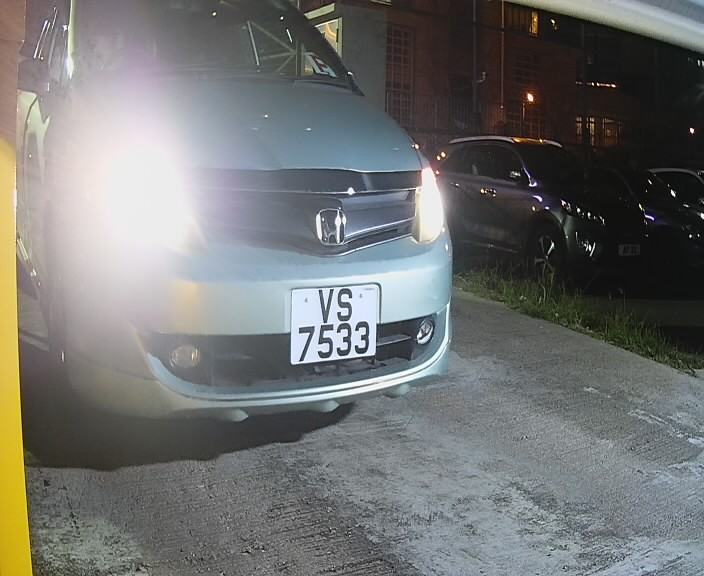Car: (5, 5, 474, 428)
License Plate: (279, 277, 390, 379)
